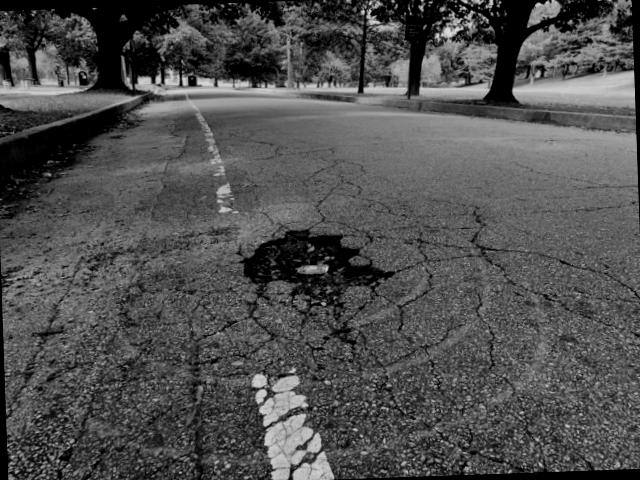Pothole: (222, 208, 406, 322)
